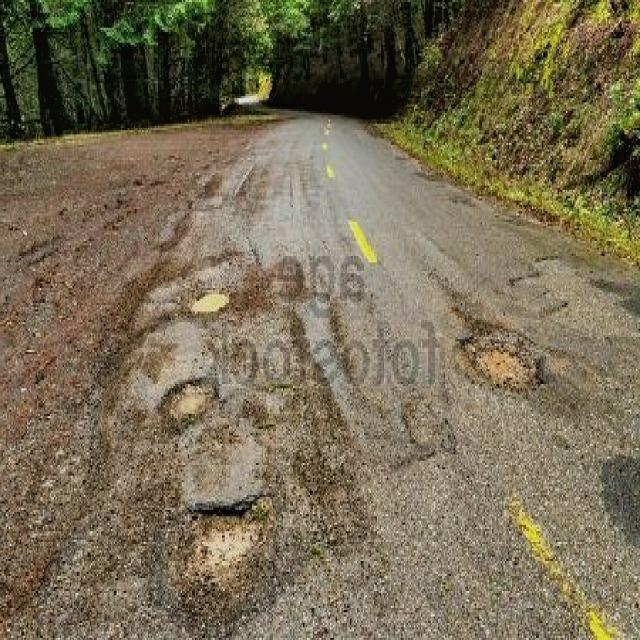Pothole: (179, 493, 273, 582), (455, 329, 550, 393), (161, 373, 219, 435), (185, 286, 233, 318)
